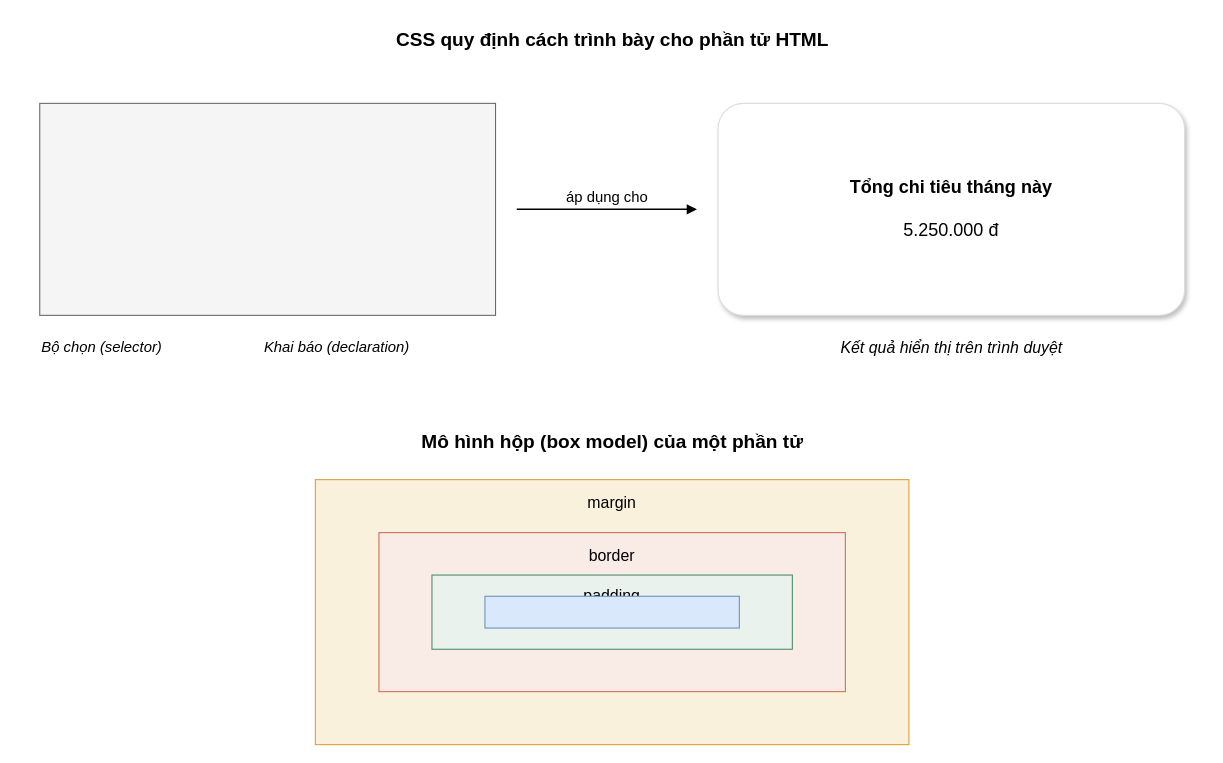
Some shapes in this 1223 by 763 pixel diagram are drawn without their labels. The shapes that lost their labels are listed below. From the top down, each one's centre as x and y in pixels, then its label:
point 267,208: .card { background: #ffffff; border-radius: 12px; padding: 16px; }
point 611,611: content
